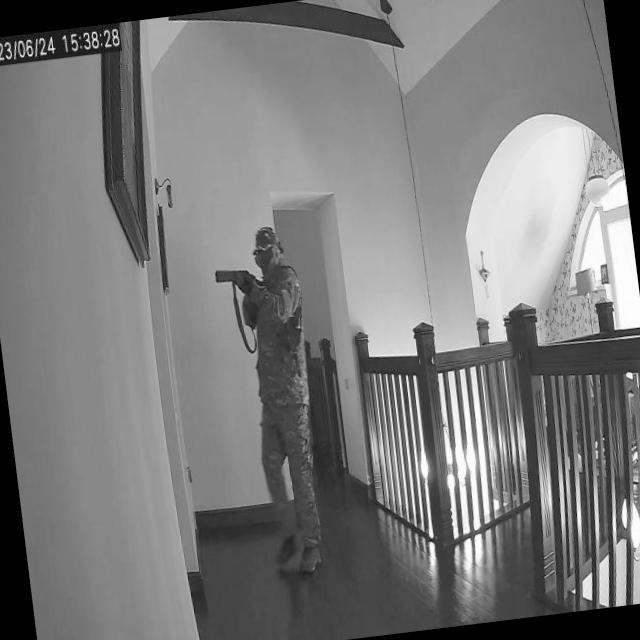gun: (212, 258, 264, 298)
person with a gun: (207, 222, 336, 585)
